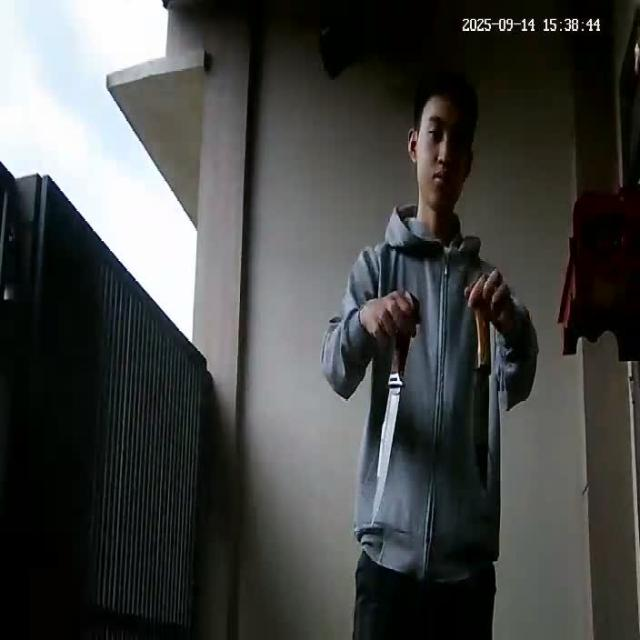senjata_tajam: (368, 348, 406, 529), (474, 309, 492, 495)
